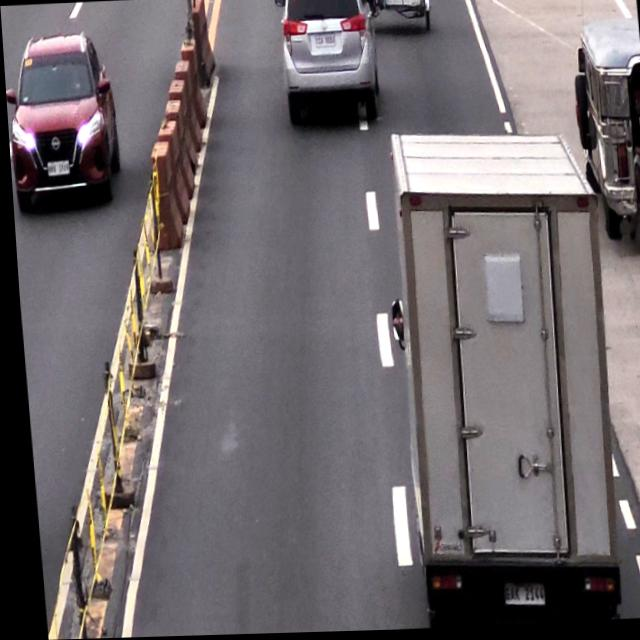Car: (278, 0, 380, 125)
Jeep: (571, 20, 640, 243)
License-Plate: (494, 581, 537, 613), (312, 34, 338, 50)
Truck: (384, 126, 616, 630)
